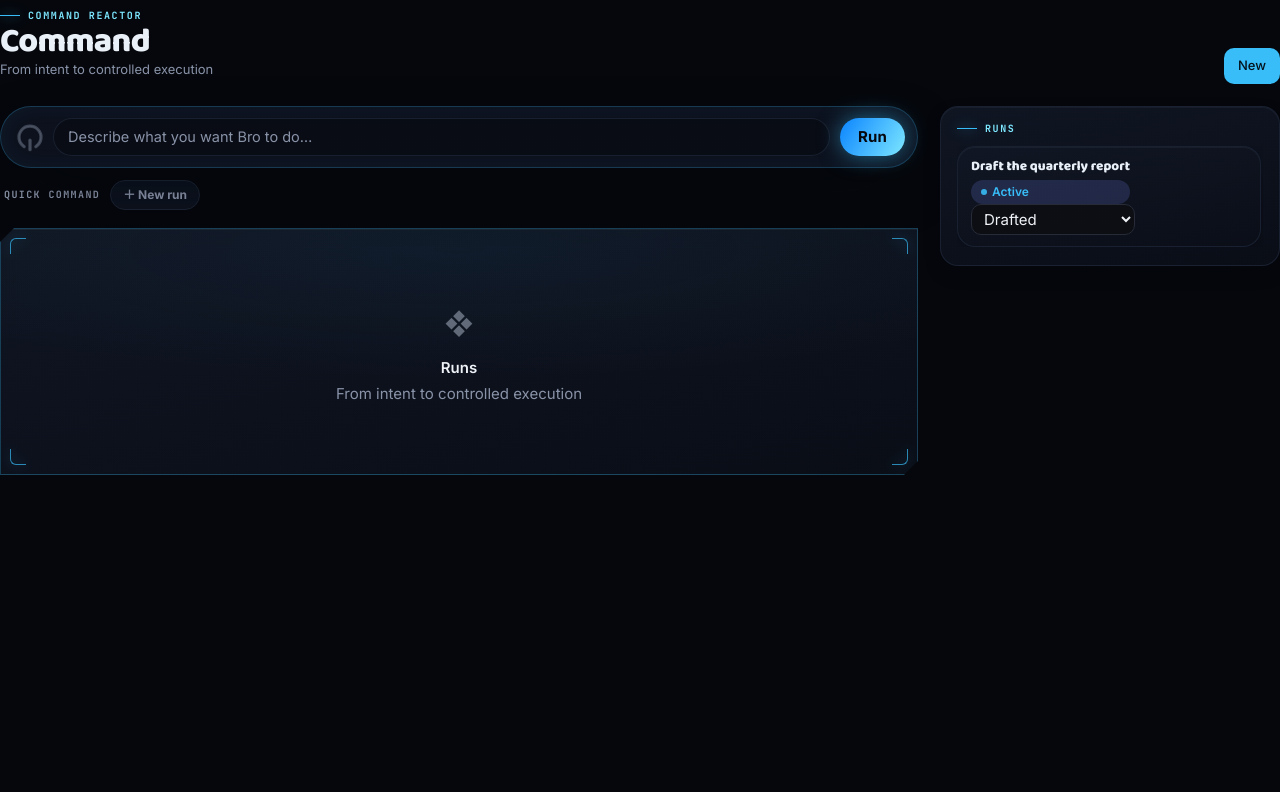
Scenario: Command — what the backend sends down the channel › a refusal delivered as an error FRAME is shown as a refusal
This screenshot has width=1280, height=792.
Click the button "Draft the quarterly report Active" at coordinates (1051, 181), box x1=971 y1=158 x2=1130 y2=204
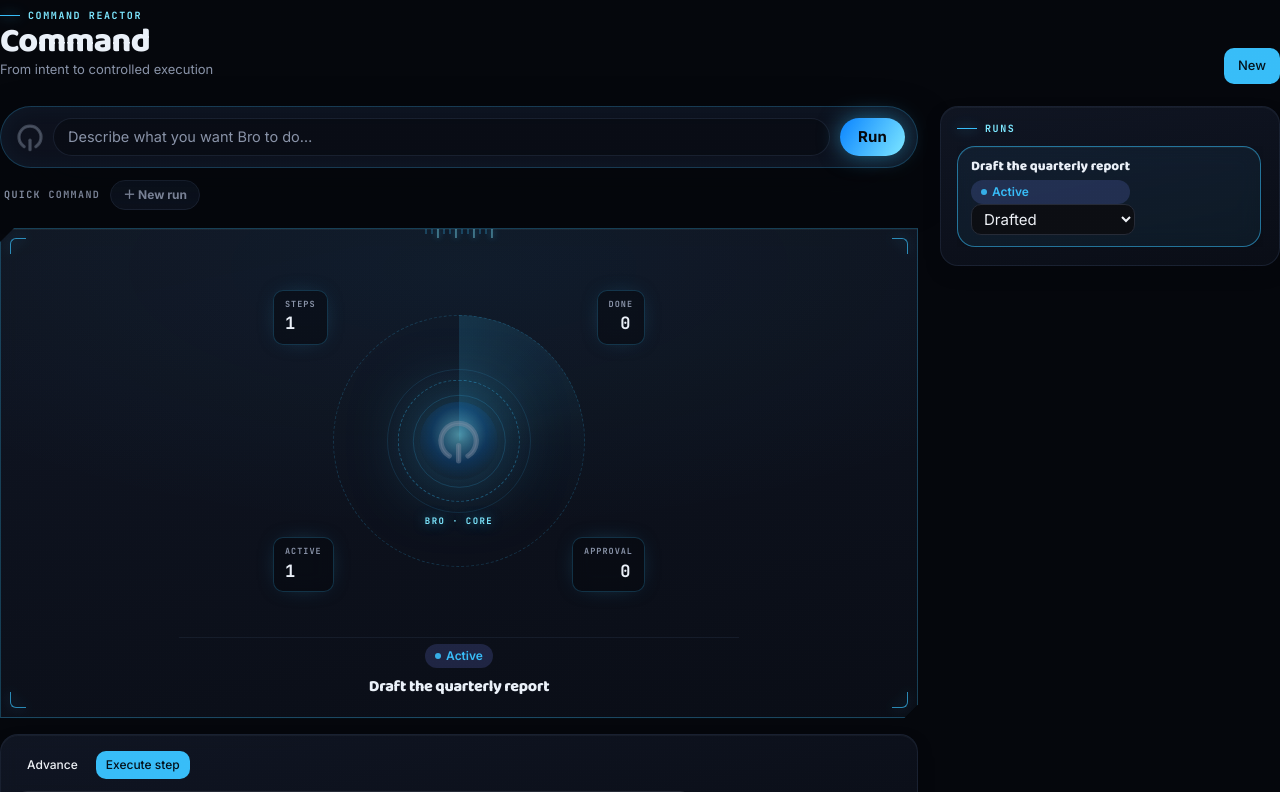
Click the button "Execute step" at coordinates (143, 766), box x1=96 y1=752 x2=190 y2=780
(page scrolled)
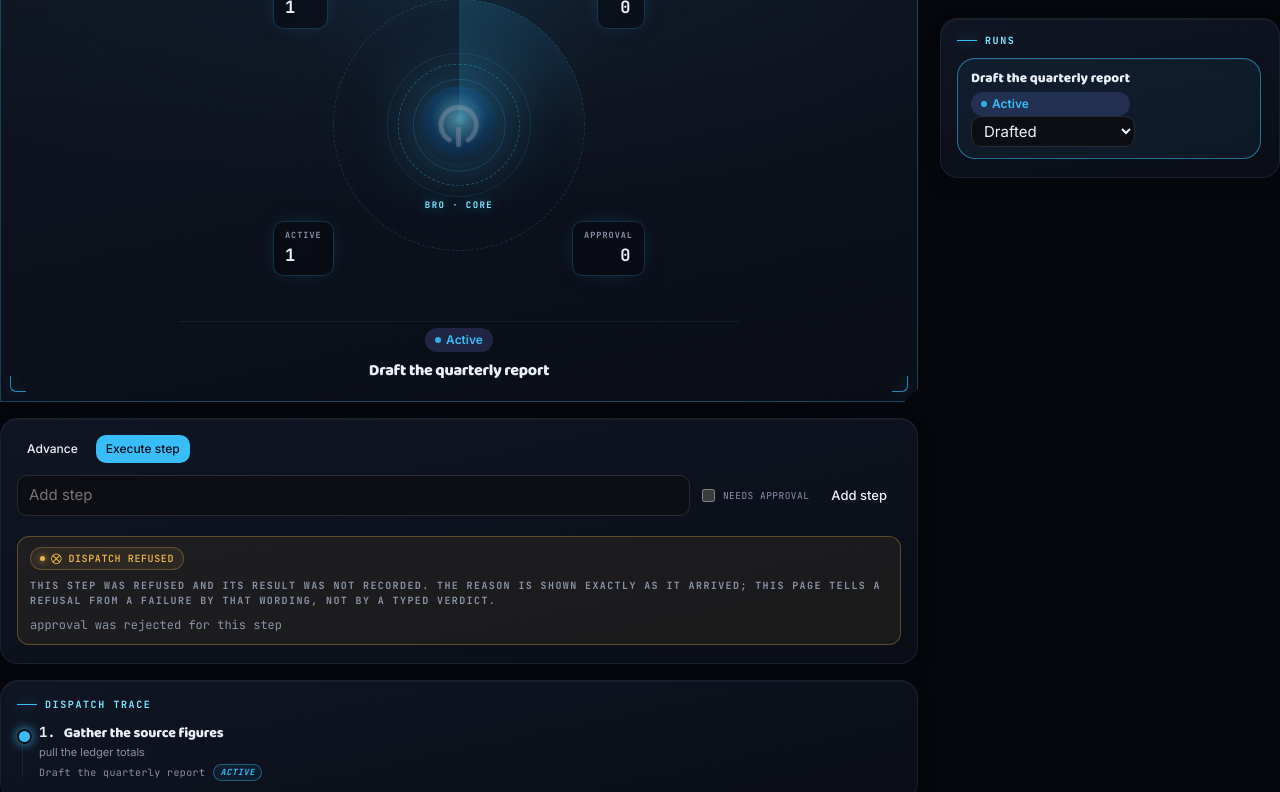
Expected: the message shows "approval was rejected for this step", x1=30 y1=617 x2=282 y2=633
